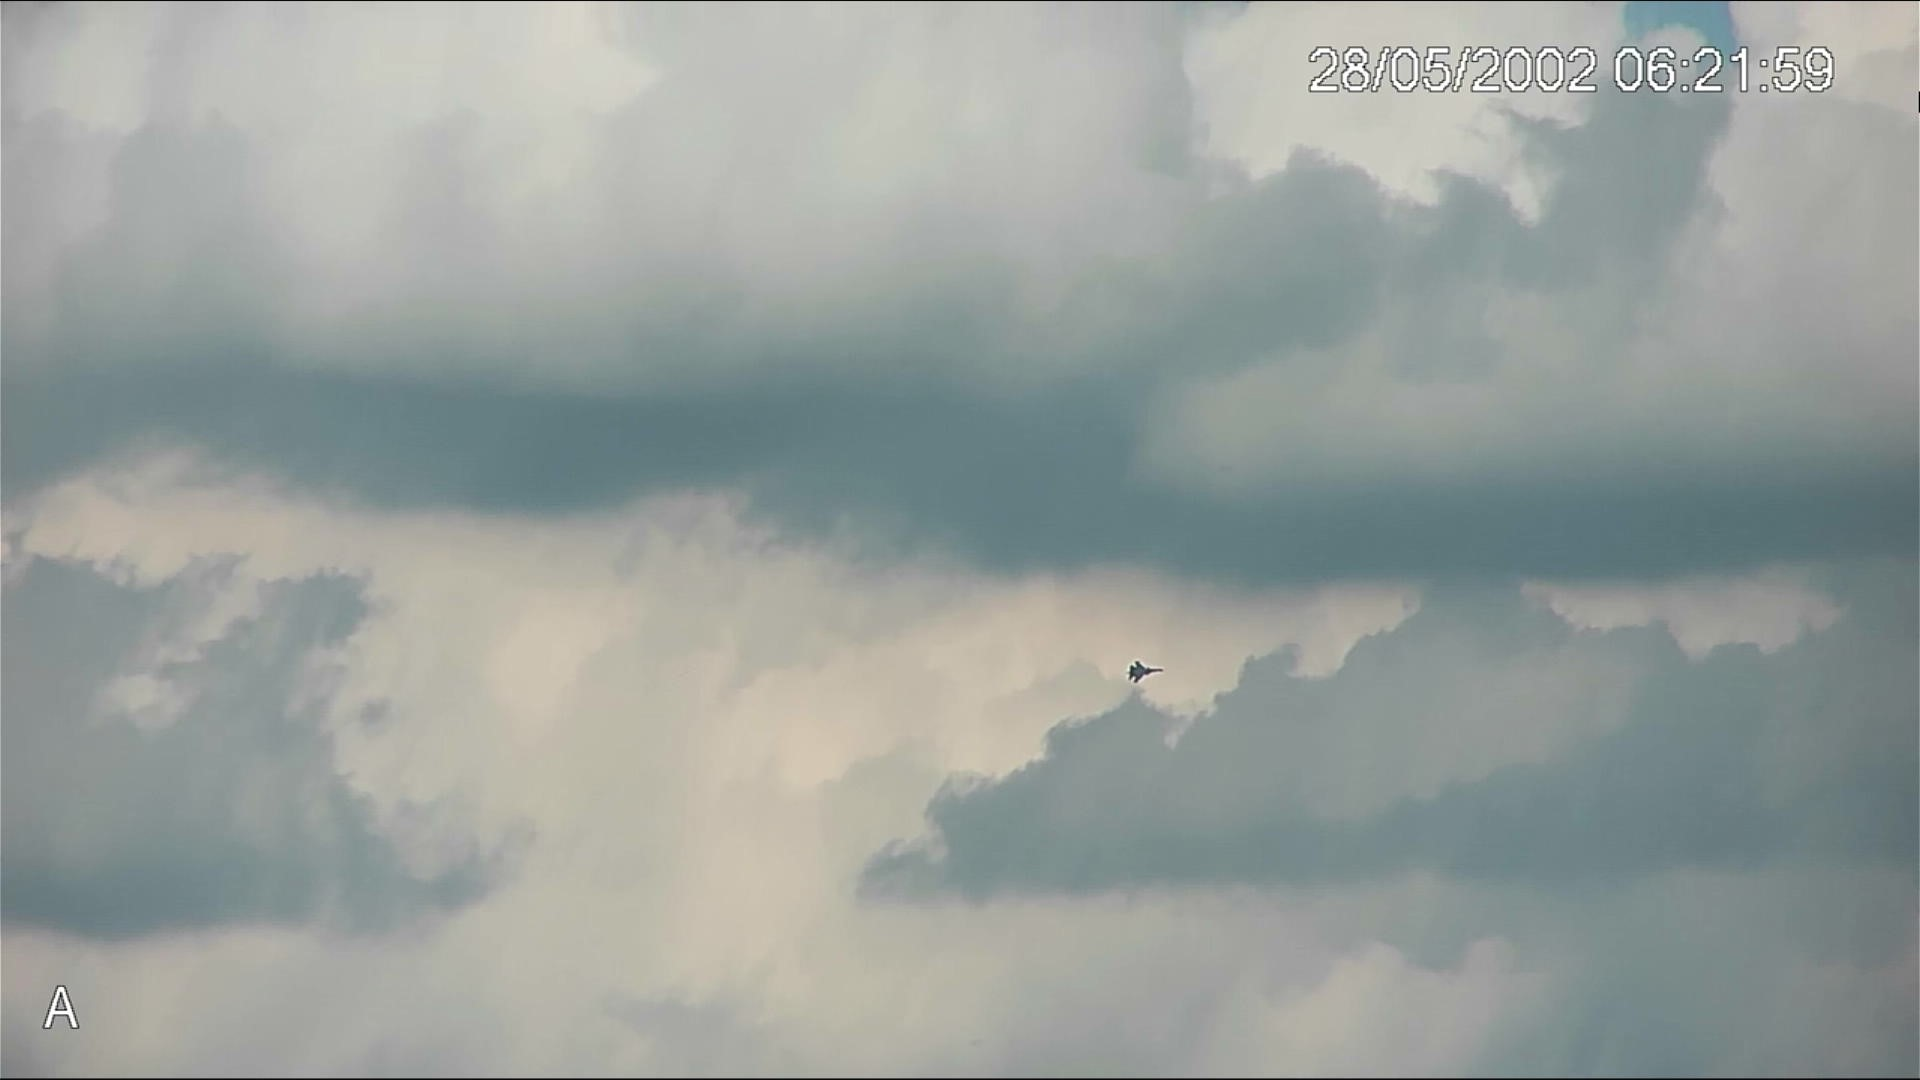SU_30: (1124, 659, 1163, 683)
